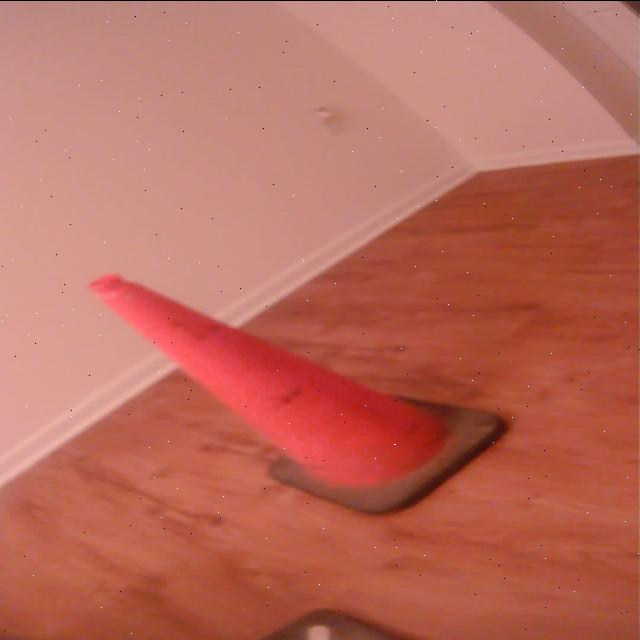traffic cone: (81, 269, 513, 519)
